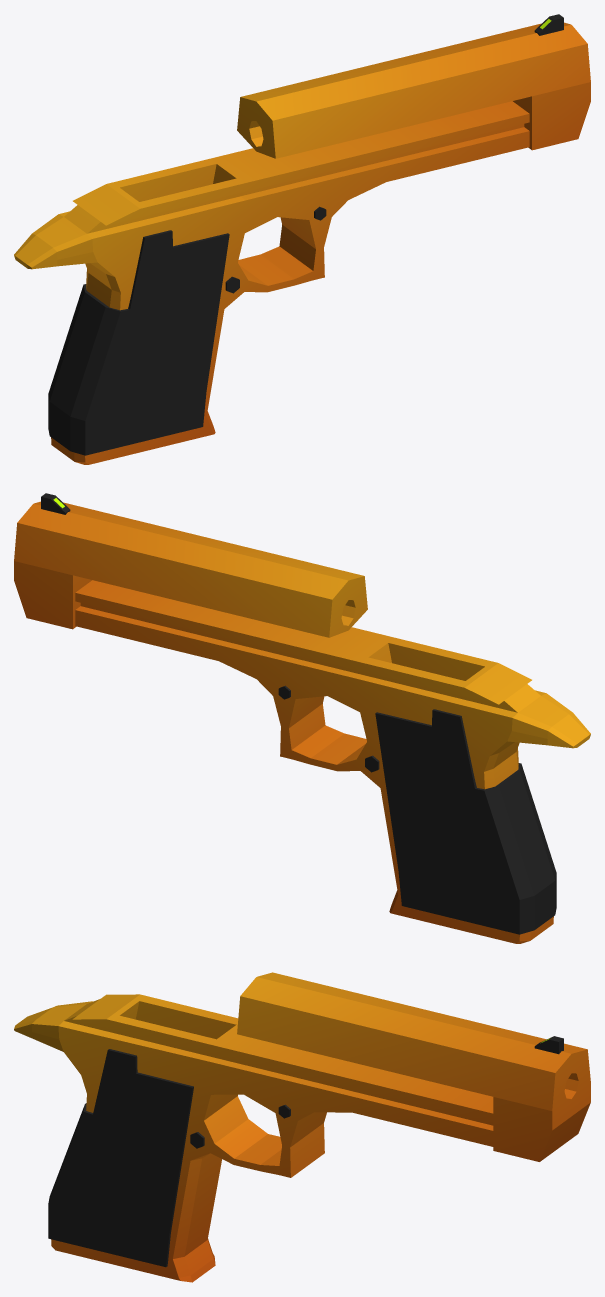
File: Pistol3_05.fbx
3 renders of one model, top to bottom at view 1: azimuth 30°, elevation 25°; view 2: azimuth 150°, elevation 25°; view 3: azimuth 330°, elevation 25°, orthographic.
Visible parts, largest first — view 1: Pistol3_05; view 2: Pistol3_05; view 3: Pistol3_05.
Part boxes in pixels (bbox=[...]): Pistol3_05: bbox=[14, 14, 590, 464]; Pistol3_05: bbox=[14, 493, 590, 943]; Pistol3_05: bbox=[14, 972, 590, 1282].
Bounding box in the file's own units: 0.3445 × 0.1921 × 0.042.
